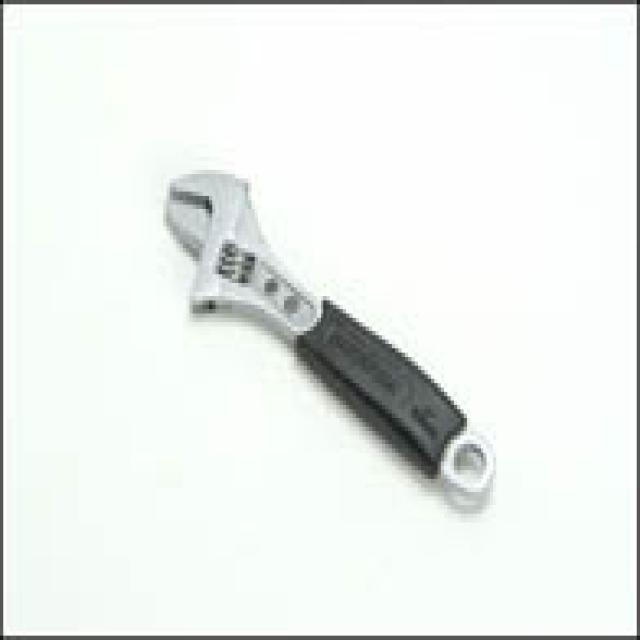wrench: (157, 115, 512, 545)
